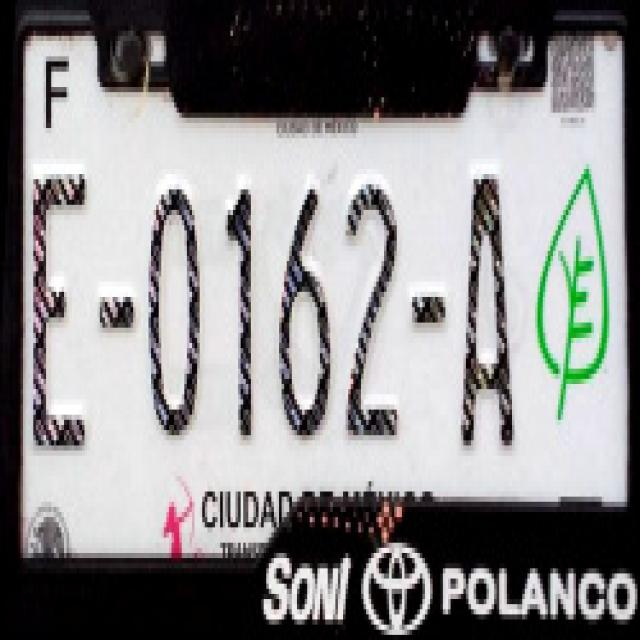placa: (22, 156, 522, 483)
